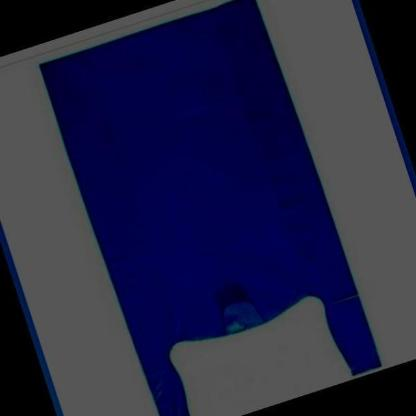Others: (37, 1, 391, 415)
